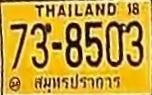0: (105, 21, 125, 66)
3: (30, 22, 51, 68), (125, 20, 143, 66)
5: (84, 21, 102, 66)
7: (9, 23, 27, 69)
8: (64, 22, 82, 66)
SPK: (32, 71, 122, 94)
